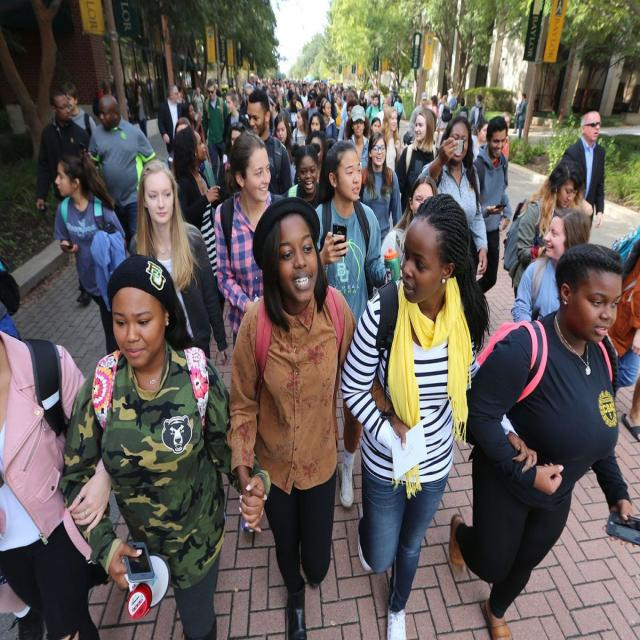body: (338, 189, 538, 639), (53, 249, 272, 639), (222, 193, 408, 639), (443, 240, 640, 640), (0, 327, 114, 639), (316, 139, 402, 510), (126, 156, 230, 373), (214, 130, 288, 350), (52, 149, 129, 355), (34, 87, 93, 308), (503, 158, 594, 298), (86, 90, 160, 258), (417, 113, 489, 275), (513, 207, 592, 329), (603, 217, 640, 442), (472, 114, 514, 295), (173, 127, 221, 278), (379, 174, 442, 277), (560, 110, 606, 230), (358, 134, 404, 248), (246, 91, 292, 196), (397, 108, 440, 212), (168, 116, 218, 190), (200, 80, 230, 186), (377, 106, 402, 221), (286, 142, 324, 209), (60, 80, 99, 140), (156, 83, 183, 155), (0, 258, 24, 338), (220, 88, 250, 149), (272, 111, 296, 187), (345, 104, 371, 174), (102, 92, 125, 170), (181, 101, 210, 162), (241, 70, 307, 90), (306, 129, 328, 183), (468, 94, 485, 163), (406, 91, 429, 142), (224, 121, 246, 171), (317, 96, 338, 143), (337, 100, 360, 142), (469, 118, 490, 164), (133, 83, 150, 138), (434, 94, 451, 148), (494, 112, 511, 166), (291, 108, 312, 146), (318, 78, 336, 122), (285, 88, 302, 134), (304, 112, 327, 146), (286, 88, 302, 134), (267, 92, 282, 138), (91, 79, 107, 121), (327, 78, 360, 98), (516, 92, 529, 140), (366, 93, 383, 129), (267, 93, 281, 136), (192, 85, 206, 126), (393, 94, 407, 134), (238, 83, 255, 115), (515, 92, 526, 136), (334, 95, 344, 136), (376, 98, 391, 125), (447, 87, 458, 119), (389, 83, 398, 122), (427, 94, 440, 119), (455, 97, 469, 120), (304, 88, 318, 110), (300, 82, 309, 109), (180, 84, 192, 104), (370, 116, 381, 136), (358, 90, 368, 111), (367, 83, 374, 108), (307, 79, 319, 92), (436, 90, 443, 108), (288, 82, 296, 94), (176, 94, 183, 105)
